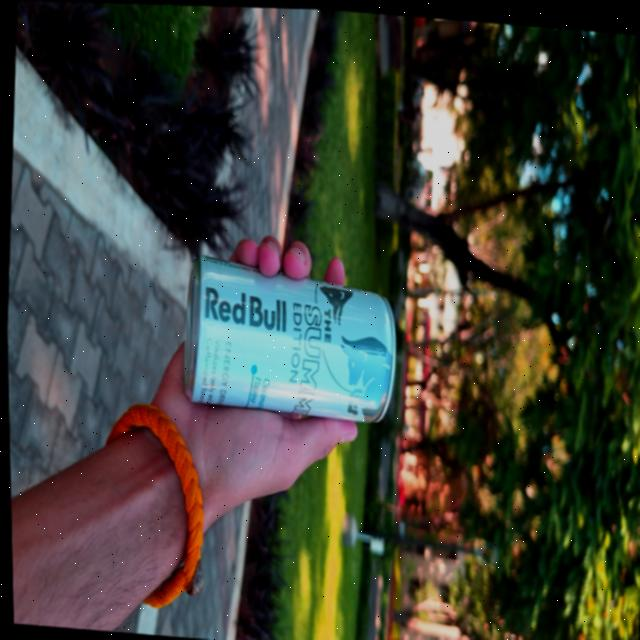Redbull Summer Edition: (176, 263, 395, 422)
